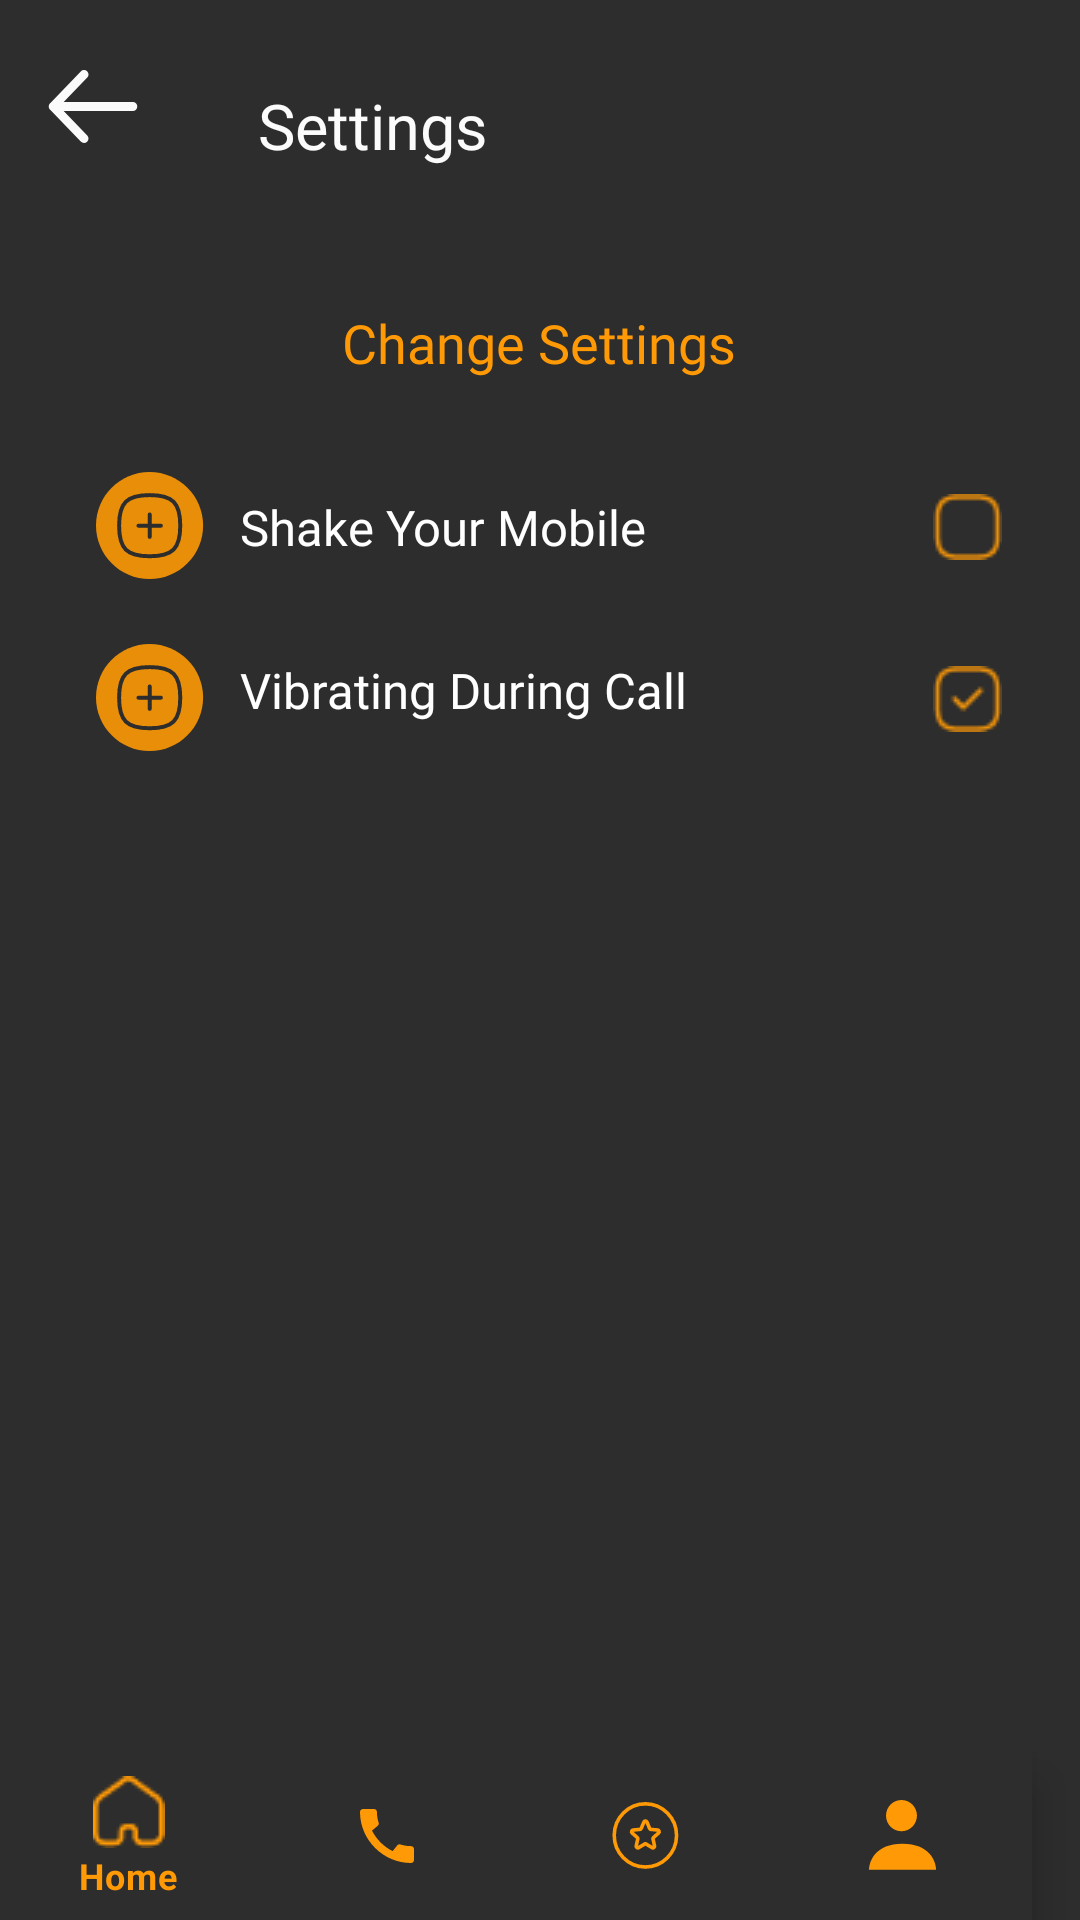

Locate icon controls on the screen. Image size 1080 x 1920, boxes as (x1, y1, x2, y2).
add: (96, 472, 203, 579), (96, 644, 203, 751)
back: (48, 70, 138, 143)
chckboxyes: (933, 666, 1002, 732)
checkbox: (933, 494, 1002, 560)
